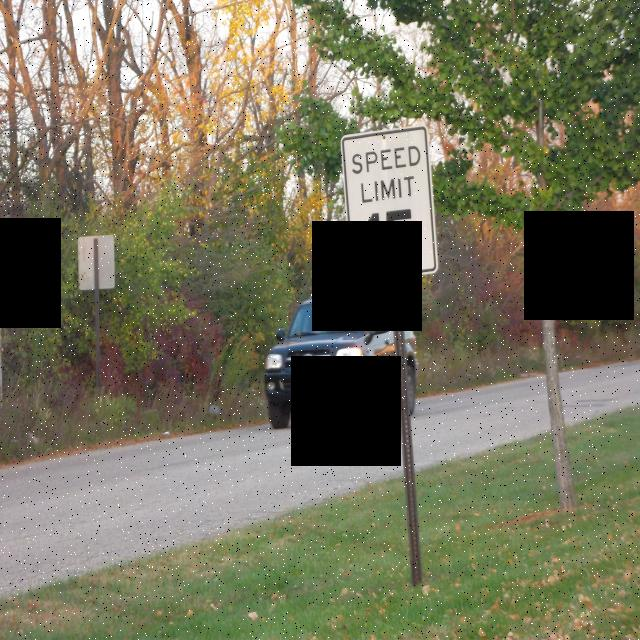regulatory: (338, 121, 444, 292)
